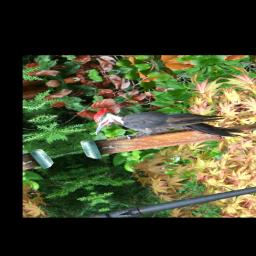Woodpecker: (80, 87, 249, 162)
